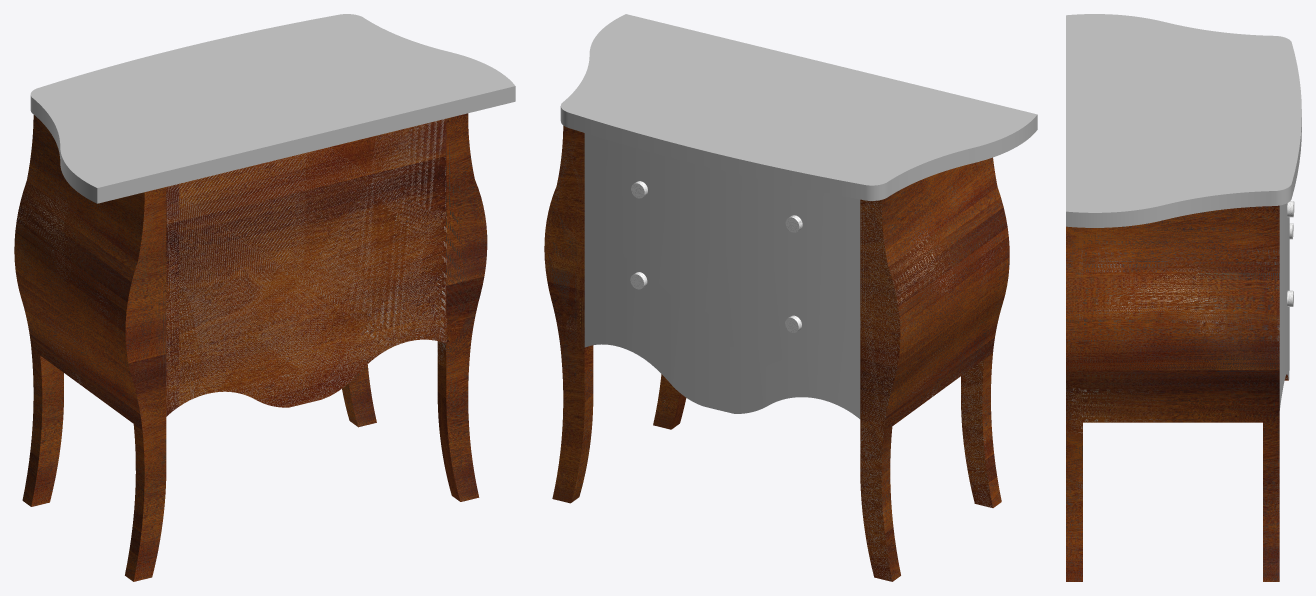
The picture shows the model from 3 angles, left to right: view 1: azimuth 30°, elevation 25°; view 2: azimuth 150°, elevation 25°; view 3: azimuth 270°, elevation 25°; orthographic projection. The views are drawn at different scales.
Parts seen in each view (by area): view 1: mesh9_mesh9-geometry, mesh7_mesh7-geometry, mesh1_mesh1-geometry, mesh2_mesh2-geometry; view 2: mesh9_mesh9-geometry, mesh7_mesh7-geometry, mesh1_mesh1-geometry, mesh2_mesh2-geometry; view 3: mesh2_mesh2-geometry, mesh7_mesh7-geometry, mesh9_mesh9-geometry.
Boxes of the visible parts, x1,y1,x2,y2 form: mesh9_mesh9-geometry: [166, 118, 446, 416]; mesh7_mesh7-geometry: [30, 14, 515, 203]; mesh1_mesh1-geometry: [14, 115, 166, 581]; mesh2_mesh2-geometry: [342, 113, 487, 501]; mesh9_mesh9-geometry: [584, 133, 860, 418]; mesh7_mesh7-geometry: [560, 14, 1037, 200]; mesh1_mesh1-geometry: [860, 157, 1009, 581]; mesh2_mesh2-geometry: [544, 125, 686, 503]; mesh2_mesh2-geometry: [1066, 205, 1279, 581]; mesh7_mesh7-geometry: [1066, 14, 1301, 227]; mesh9_mesh9-geometry: [1279, 203, 1289, 410].
Bounding box in the file's own units: 0.6941 × 0.6303 × 0.3478.
